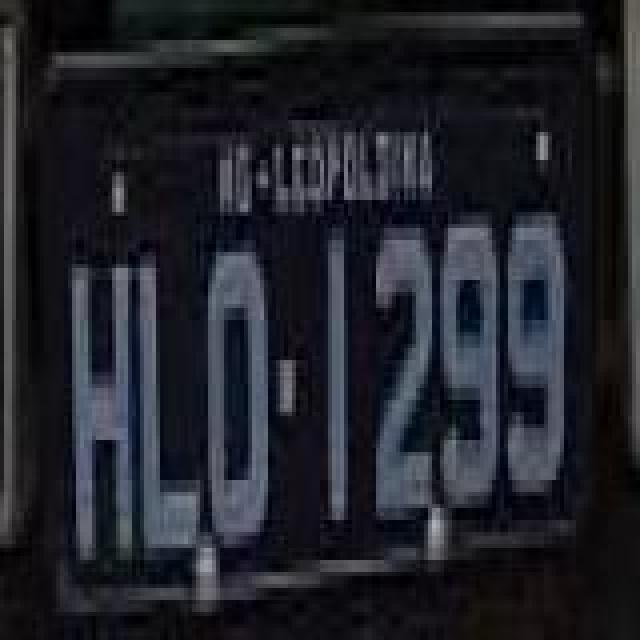1: (324, 226, 348, 534)
2: (372, 228, 436, 524)
9: (442, 212, 502, 508), (506, 212, 566, 508)
H: (70, 256, 138, 576)
L: (134, 254, 202, 562)
O: (208, 246, 272, 554)
